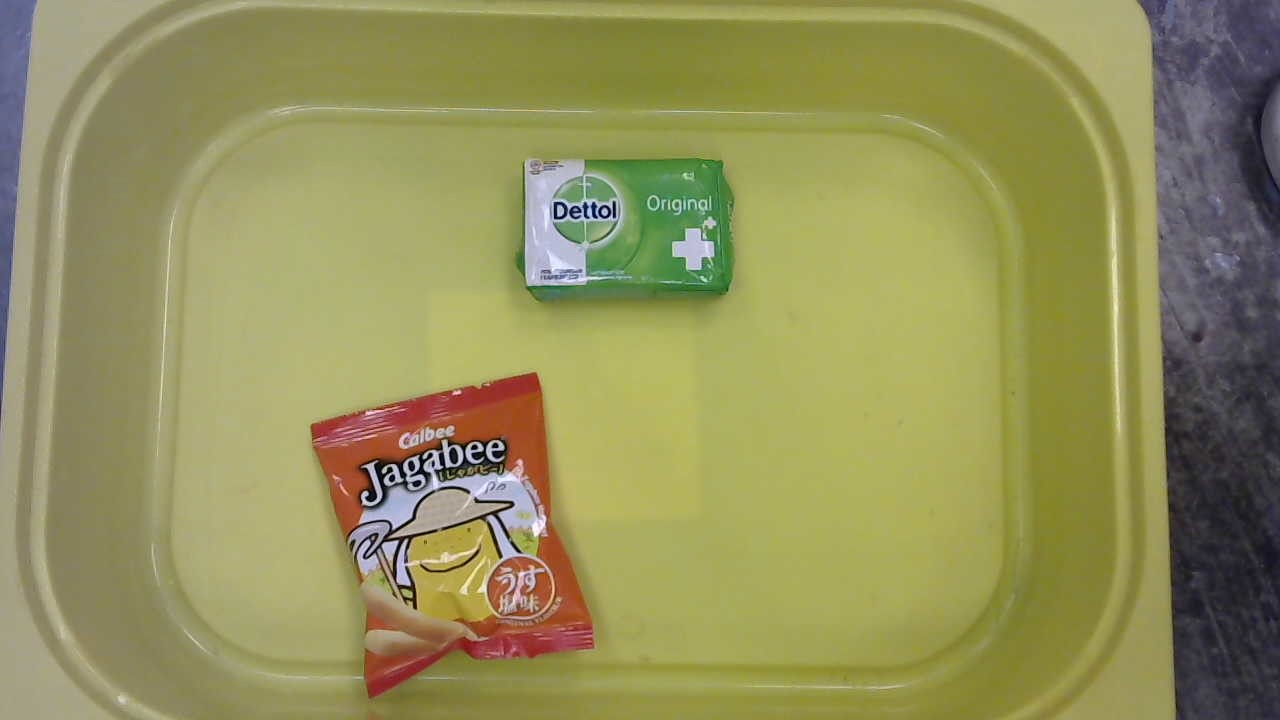Dettol: (513, 153, 741, 302)
JagabeeFarmer: (305, 371, 605, 706)
